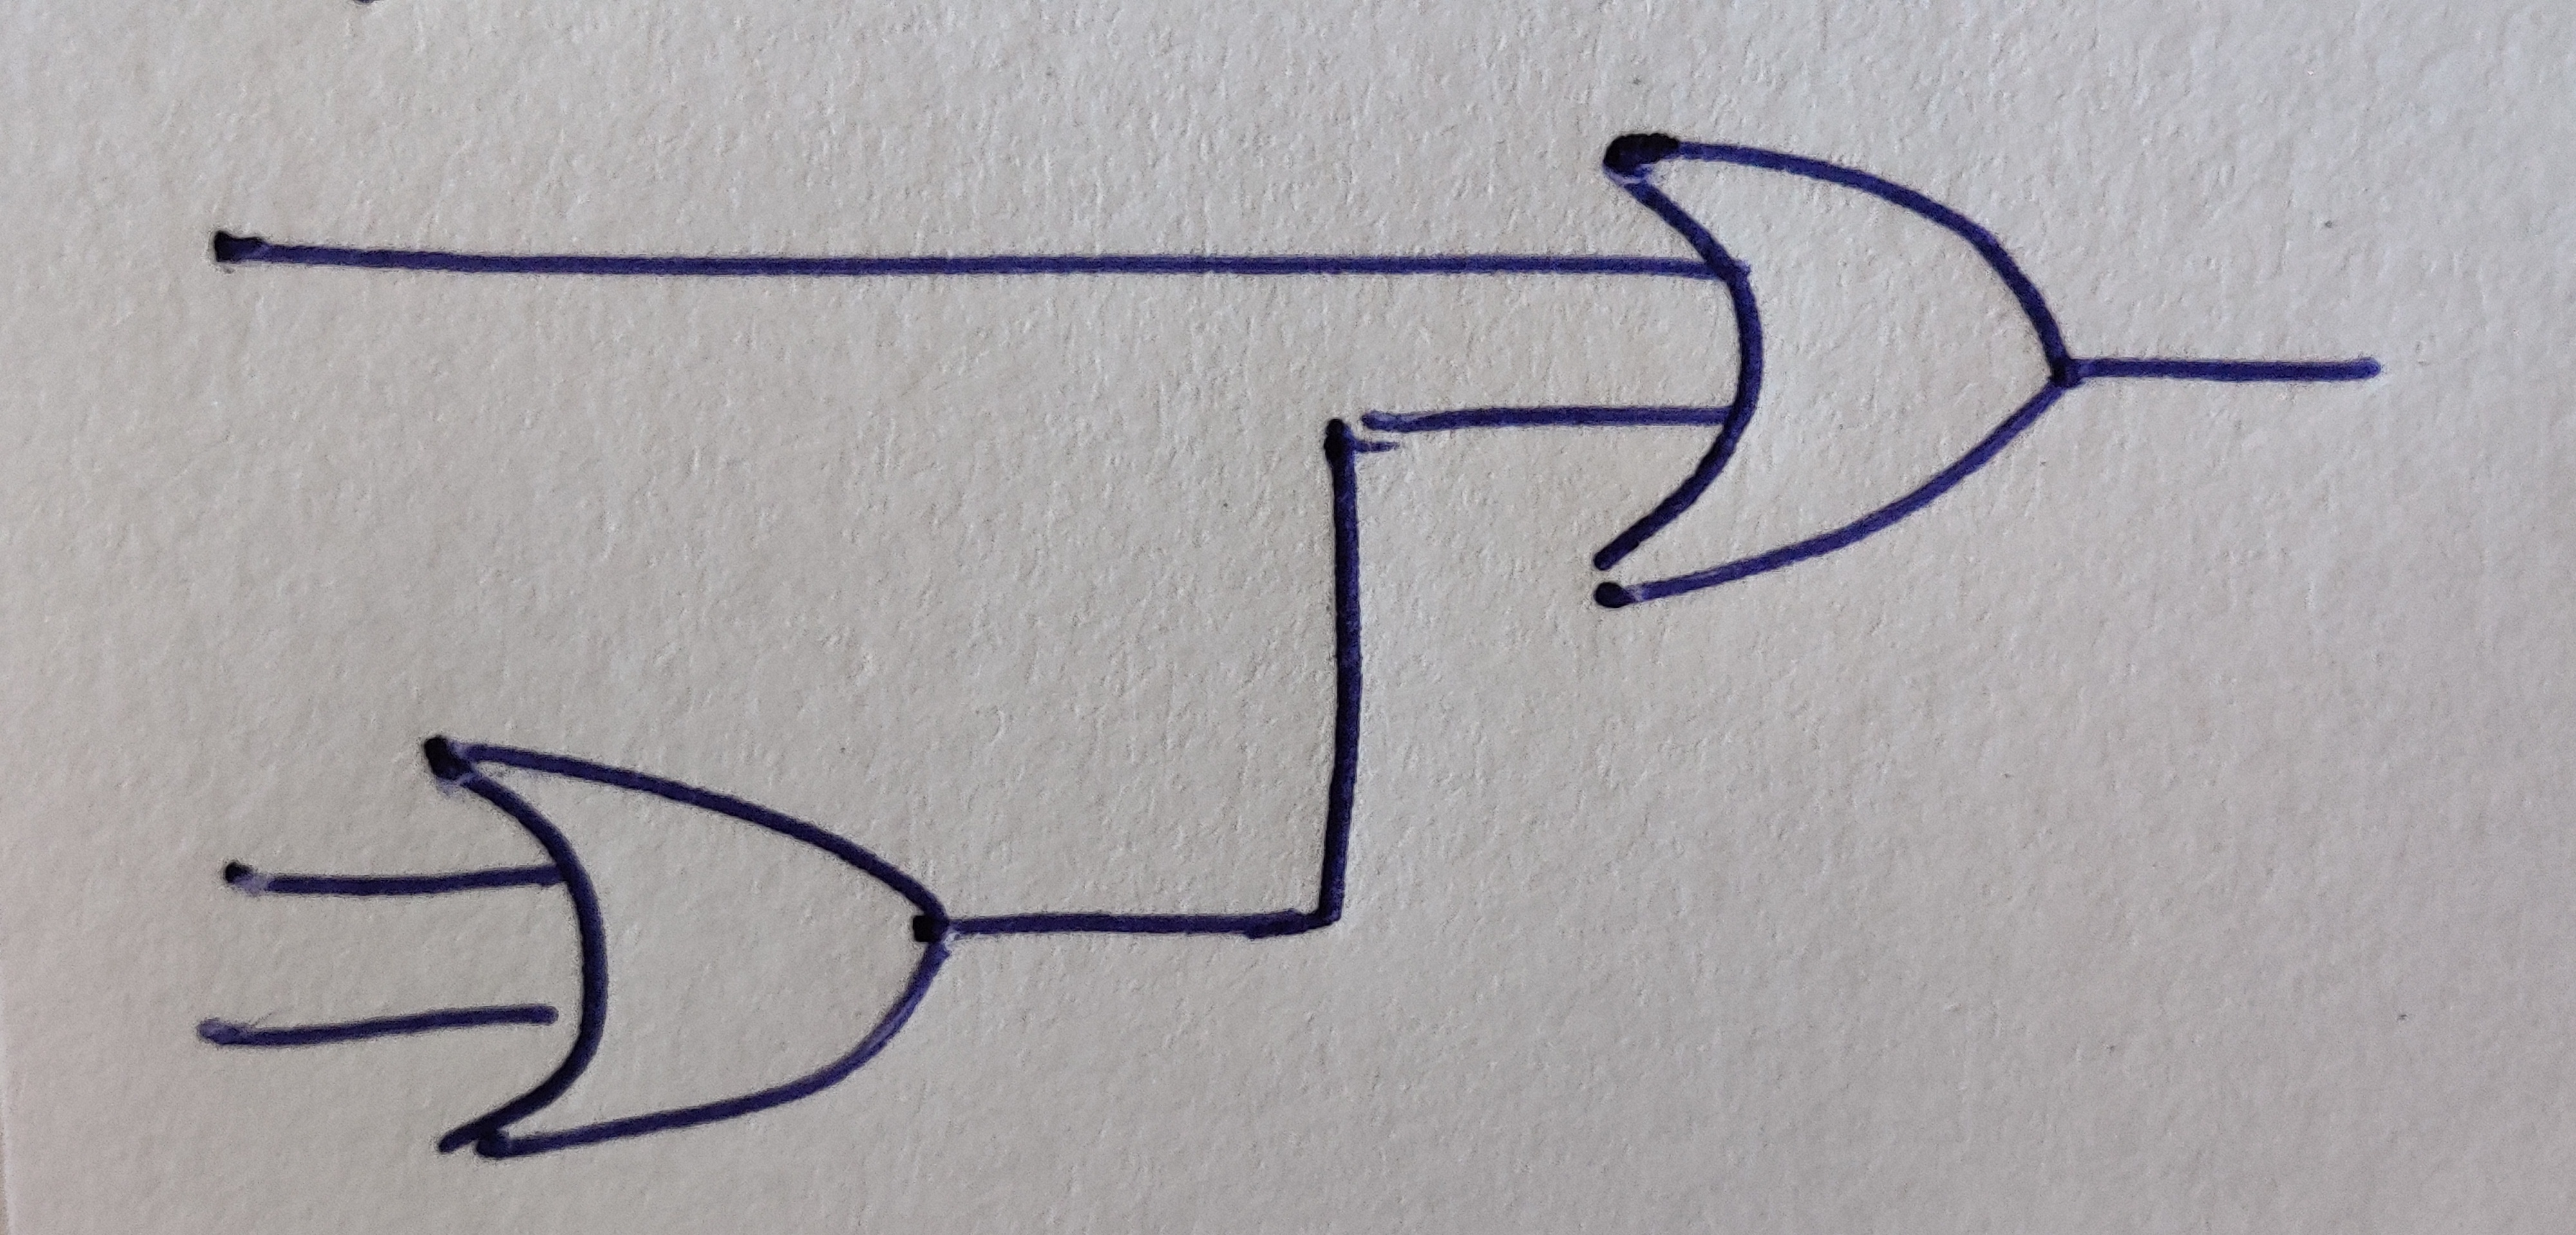or: (1590, 135, 2078, 609), (422, 736, 951, 1161)
